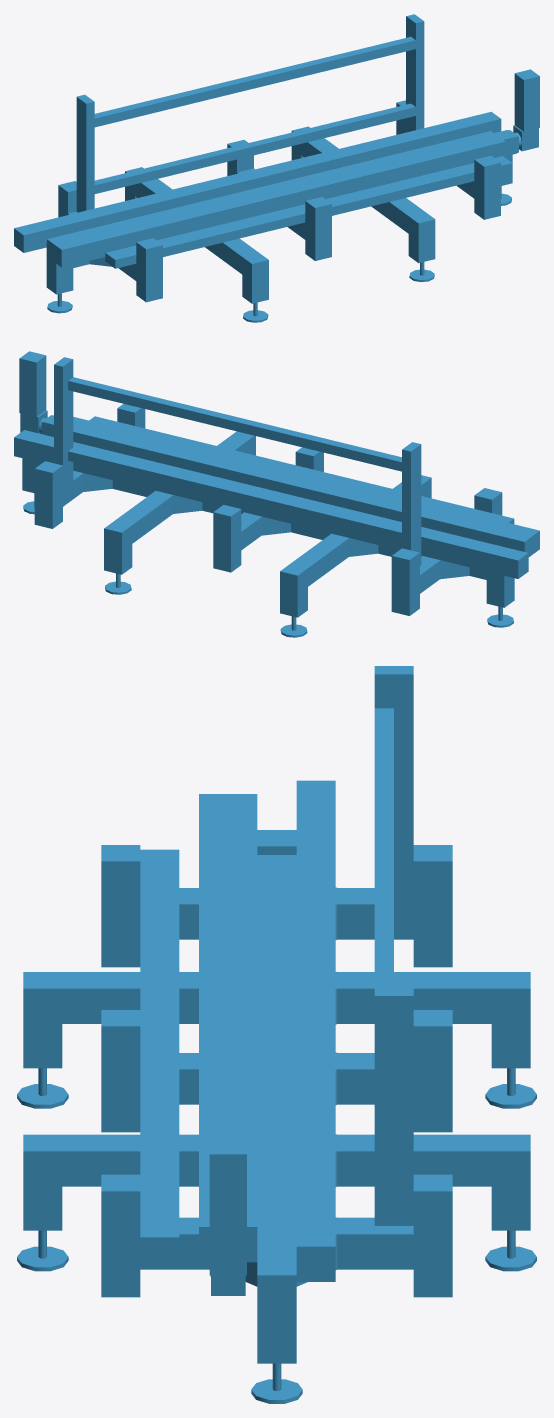
3 renders of one model, top to bottom at view 1: azimuth 30°, elevation 25°; view 2: azimuth 150°, elevation 25°; view 3: azimuth 270°, elevation 25°, orthographic. The views are drawn at different scales.
Visible parts, largest first — view 1: clr_link_0_visual-inertia; view 2: clr_link_0_visual-inertia; view 3: clr_link_0_visual-inertia.
Part boxes in pixels (x1,y1,x2,y2): clr_link_0_visual-inertia: (14,14,539,322); clr_link_0_visual-inertia: (14,351,539,637); clr_link_0_visual-inertia: (17,666,536,1403).
Bounding box in the file's own units: 2.63 × 1.2 × 0.885.
